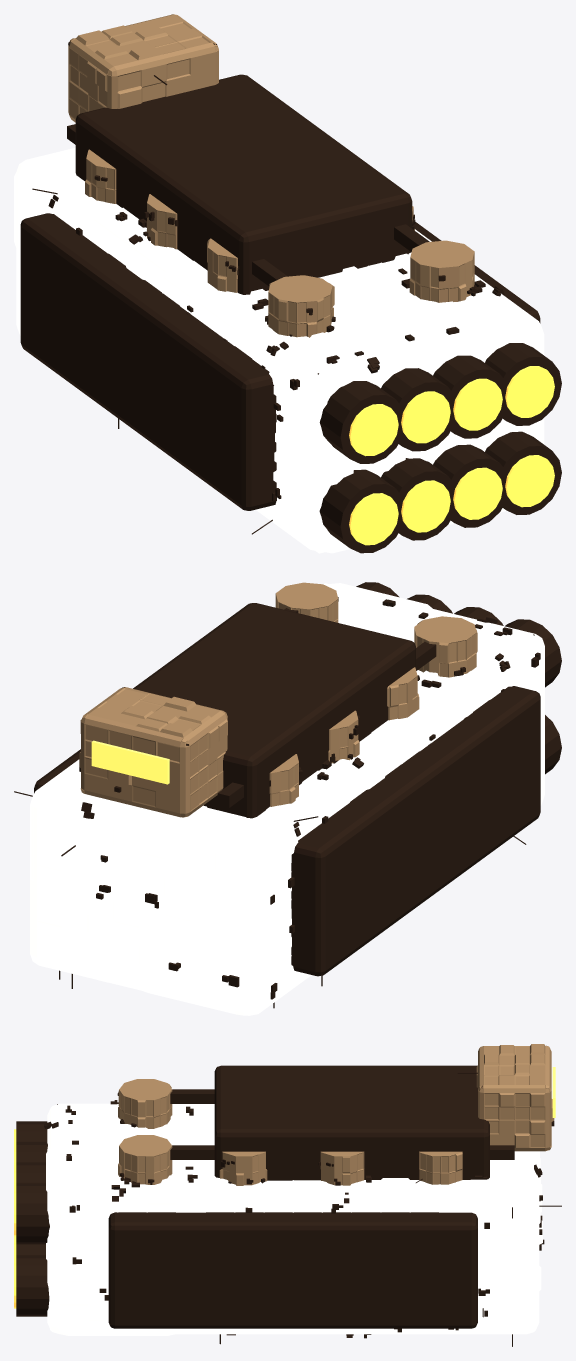
Rendered from gorrath_large.glb.
3 renders of one model, top to bottom at view 1: azimuth 30°, elevation 25°; view 2: azimuth 150°, elevation 25°; view 3: azimuth 270°, elevation 25°, orthographic. The views are drawn at different scales.
Visible parts, largest first — view 1: gorrath_large; view 2: gorrath_large; view 3: gorrath_large.
Part boxes in pixels (x1,y1,x2,y2): gorrath_large: [14, 14, 561, 553]; gorrath_large: [14, 582, 561, 1015]; gorrath_large: [14, 1044, 561, 1346].
Size of the model in its own units: 5.15 by 5.18 by 10.12.
